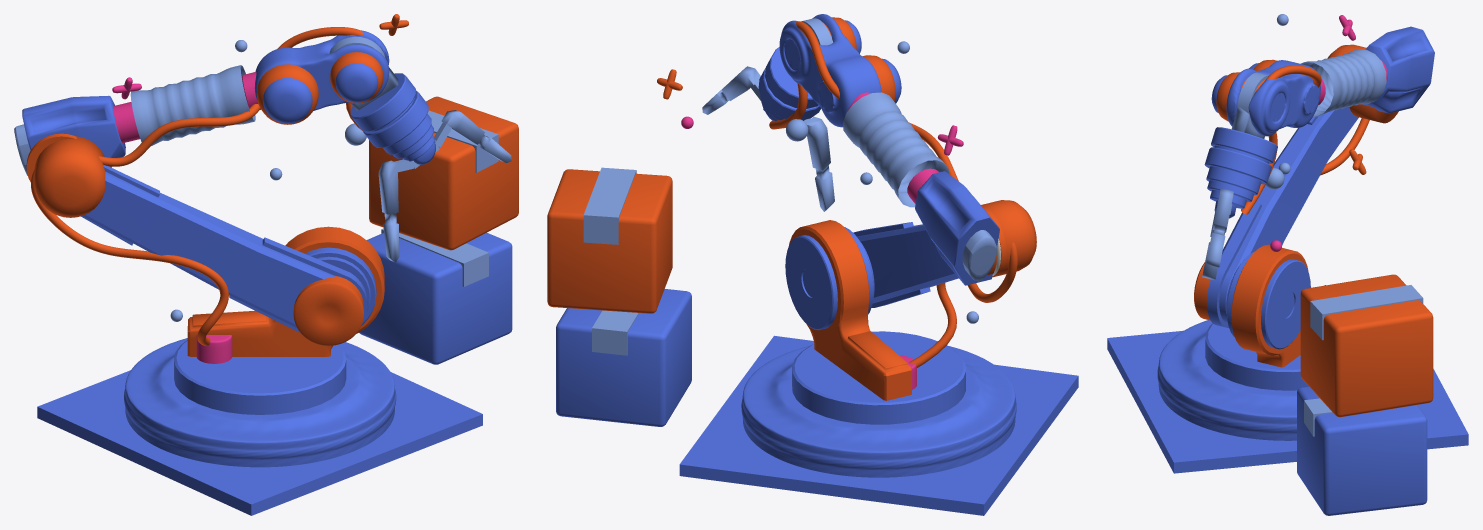
Rendered from robot-arm-3d-animated-icon-397809396915.glb.
The picture shows the model from 3 angles, left to right: view 1: azimuth 30°, elevation 25°; view 2: azimuth 150°, elevation 25°; view 3: azimuth 270°, elevation 25°; orthographic projection. The views are drawn at different scales.
Visible parts, largest first — view 1: machine.037, machine, box.001, box, machine.015, machine.008, machine.005; view 2: machine.037, machine, box, box.001, machine.015, machine.008, machine.005; view 3: machine.037, machine, box, box.001, machine.015, machine.005.
Boxes of the visible parts, x1,y1,x2,y2 form: machine.037: (14,27,434,363); machine: (37,338,482,515); box.001: (359,228,512,364); box: (369,96,518,250); machine.015: (174,340,346,414); machine.008: (378,160,399,262); machine.005: (441,110,511,162); machine.037: (758,14,1036,400); machine: (679,335,1078,515); box: (547,167,672,313); box.001: (556,289,691,426); machine.015: (792,331,965,424); machine.008: (806,116,834,211); machine.005: (702,66,760,114); machine.037: (1194,26,1434,367); machine: (1107,320,1468,473); box: (1300,274,1433,417); box.001: (1297,386,1427,515); machine.015: (1205,323,1308,390); machine.005: (1206,188,1233,267).
Bounding box in the file's own units: 6.13 × 4.81 × 4.23.
